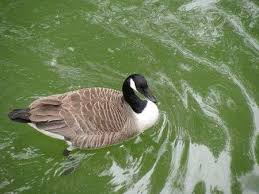goose: (3, 68, 172, 158)
